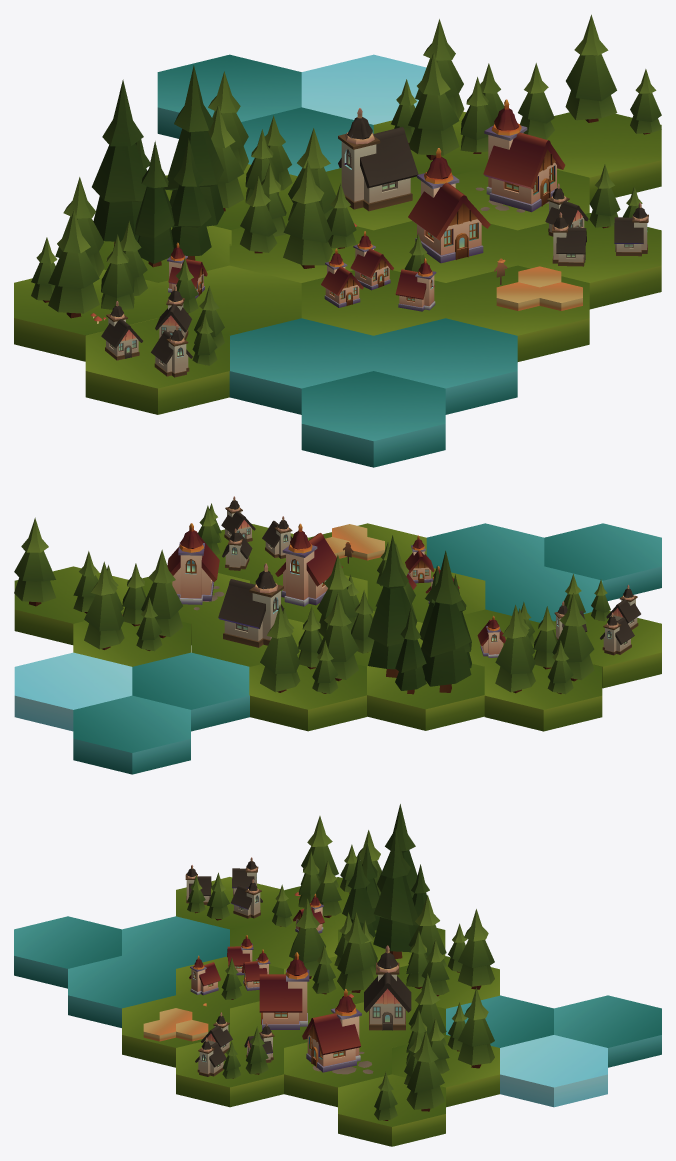
Rendered from SpringMap.fbx.
3 renders of one model, top to bottom at view 1: azimuth 30°, elevation 25°; view 2: azimuth 150°, elevation 25°; view 3: azimuth 270°, elevation 25°, orthographic. The views are drawn at different scales.
Parts seen in each view (by area): view 1: rest, leafes, water, whey; view 2: rest, leafes, water, whey; view 3: rest, leafes, water, whey.
Part boxes in pixels (x1,y1,x2,y2): rest: [14, 54, 661, 414]; leafes: [31, 14, 661, 365]; water: [157, 54, 517, 467]; whey: [496, 266, 582, 310]; rest: [14, 496, 661, 731]; leafes: [14, 503, 610, 694]; water: [73, 523, 661, 774]; whey: [325, 524, 384, 560]; rest: [122, 857, 607, 1146]; leafes: [187, 804, 494, 1120]; water: [14, 916, 661, 1067]; whey: [143, 1008, 208, 1041].
Size of the model in its own units: 543 by 150 by 594.
